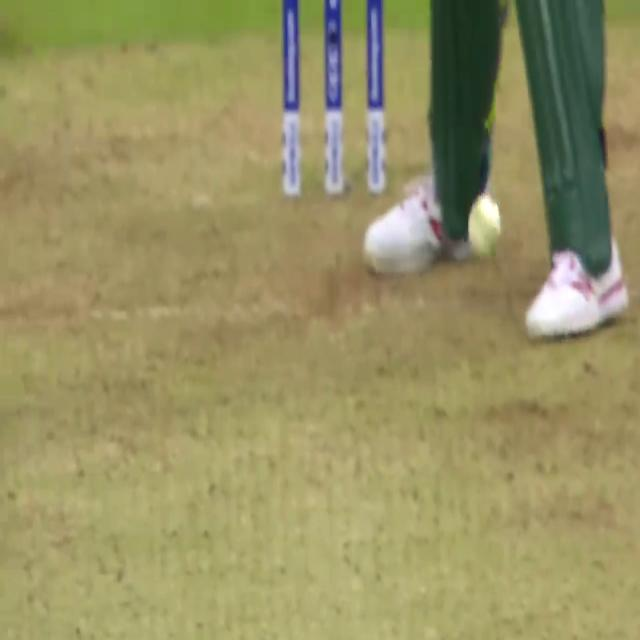ball: (462, 185, 512, 267)
